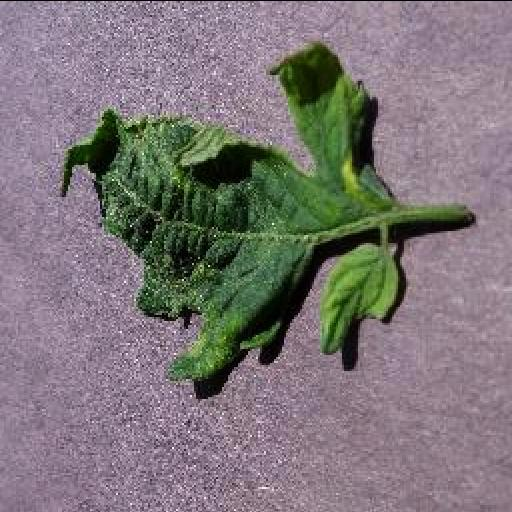disease_tomato: (59, 40, 401, 388)
